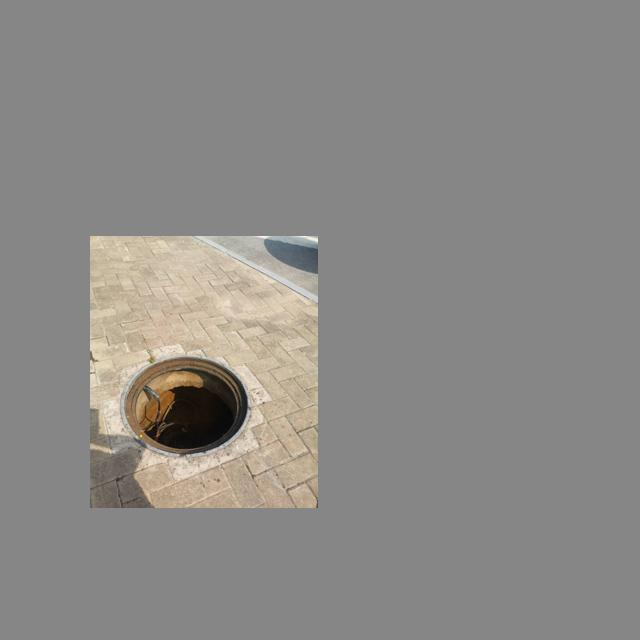lose: (120, 354, 251, 456)
